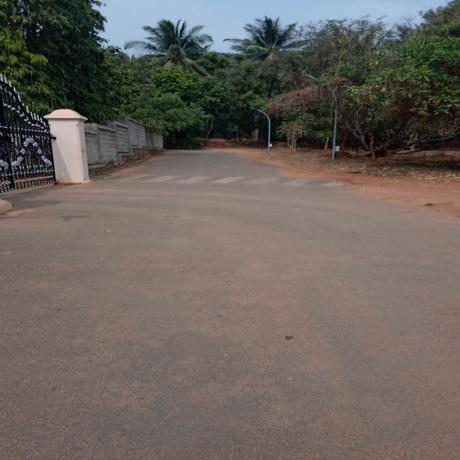Speed Bump: (96, 172, 352, 188)
